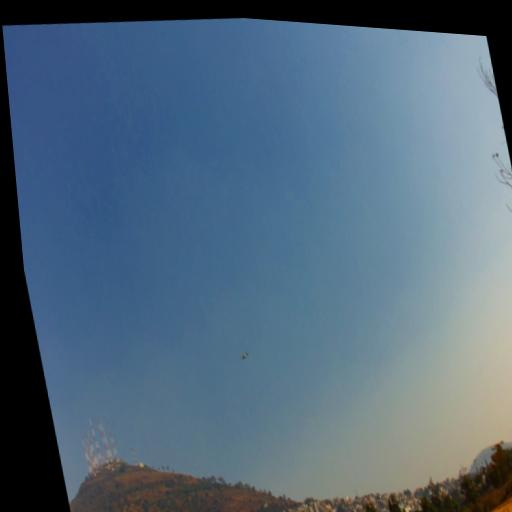drones: (238, 350, 251, 362)
